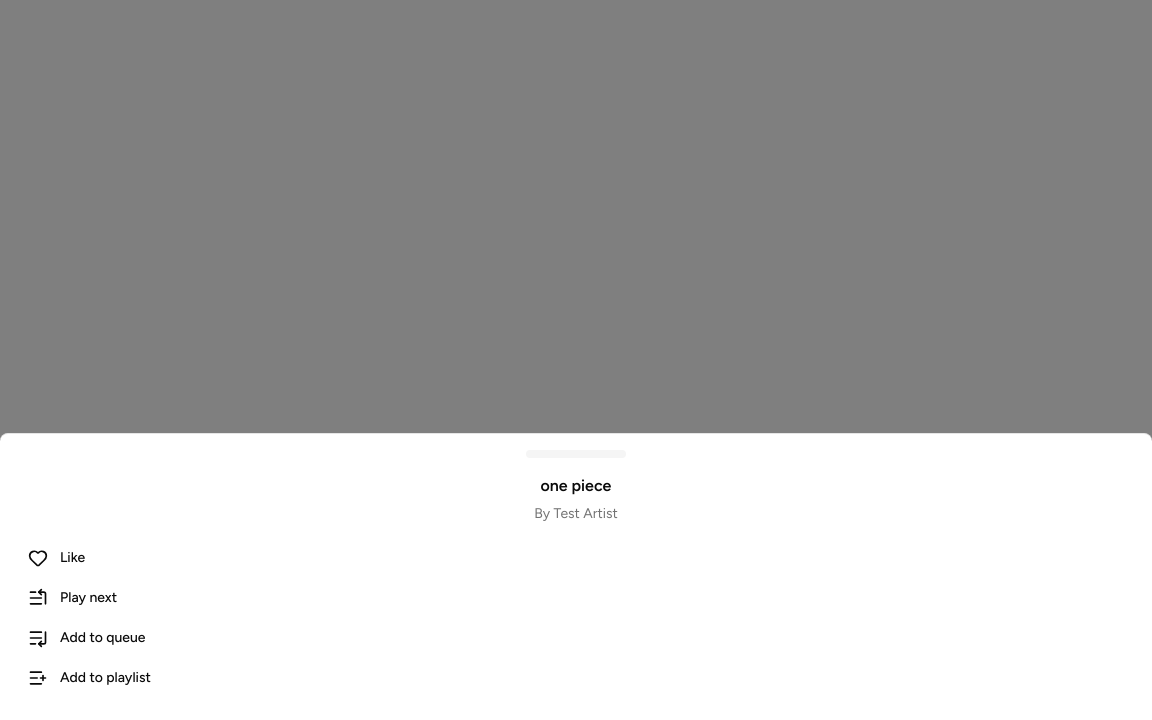
Test case: SongOptionsMenu › Mobile drawer menu › displays empty state when no playlists exist on mobile
This screenshot has width=1152, height=720.
Click the button "Add to playlist". click: (105, 678)
box: [16, 660, 1136, 696]
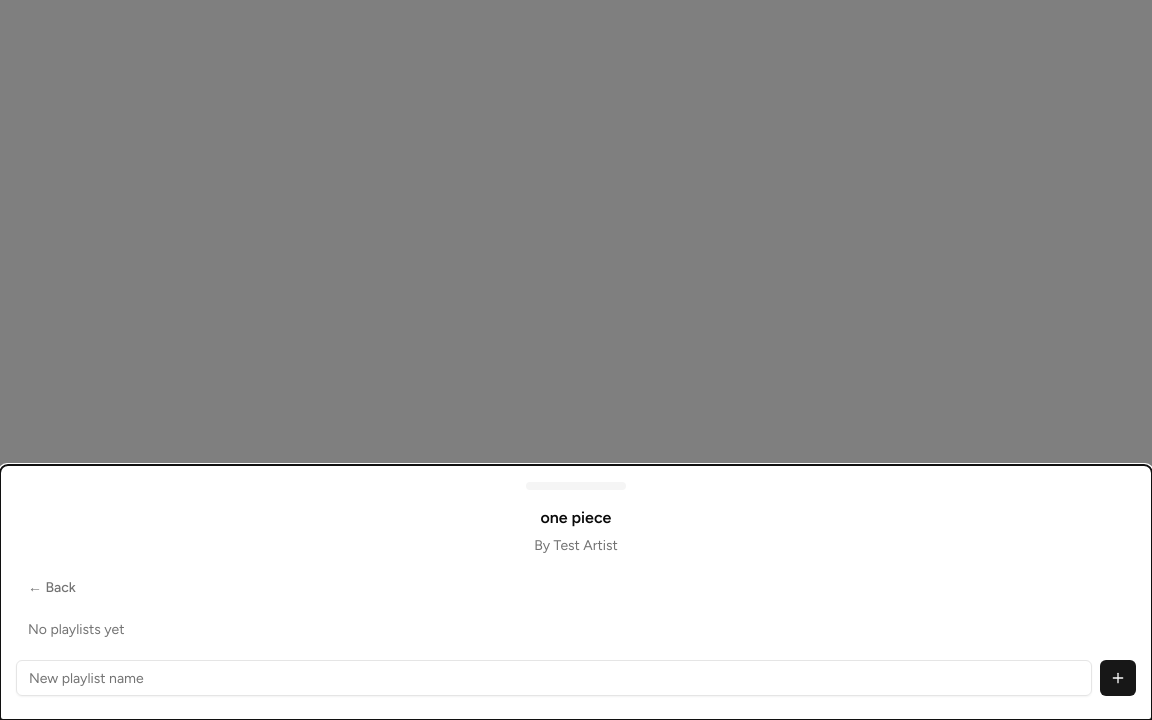
Check: the text "No playlists yet" is shown, box [28, 621, 124, 638]
